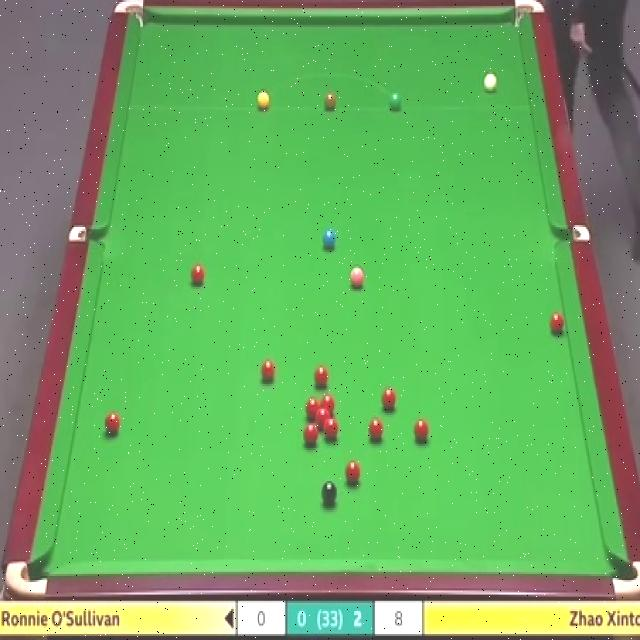black-ball: (322, 479, 338, 507)
blue-ball: (321, 228, 337, 251)
brown-ball: (324, 90, 336, 111)
green-ball: (388, 90, 401, 111)
pink-ball: (346, 264, 366, 292)
red-ball: (548, 310, 566, 340), (343, 458, 362, 486), (380, 386, 398, 412), (189, 264, 207, 288), (367, 418, 384, 443), (259, 359, 275, 385), (103, 411, 120, 435), (413, 420, 430, 444), (323, 419, 338, 442), (314, 366, 329, 389), (304, 400, 320, 421), (303, 424, 318, 446), (320, 394, 336, 414), (316, 408, 330, 427)
white-ball: (481, 70, 498, 94)
yellow-ball: (257, 91, 270, 111)
